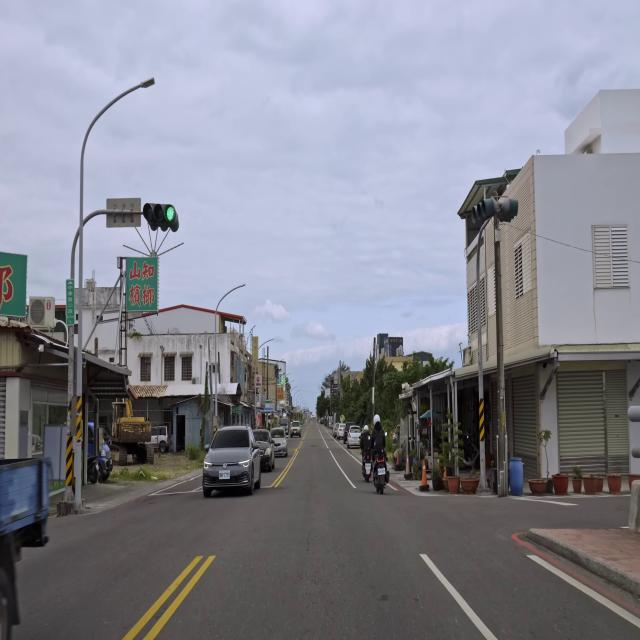green light: (143, 202, 179, 233)
